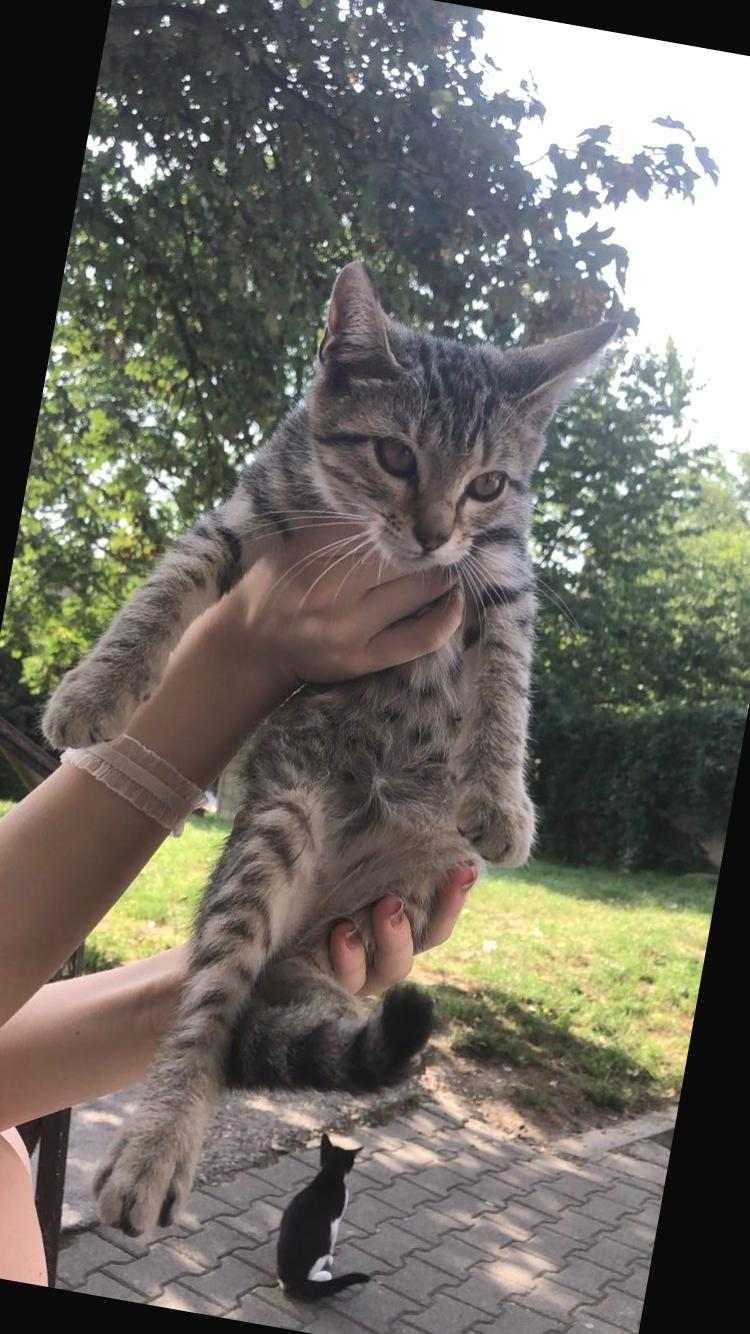macka: (0, 214, 634, 1294)
